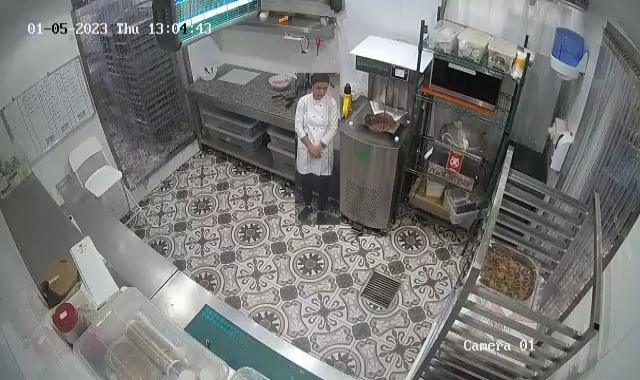no_hairnet: (308, 72, 332, 90)
